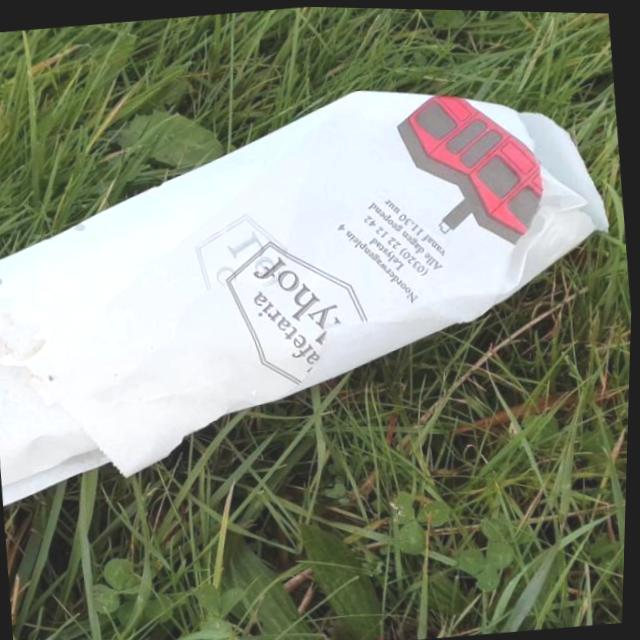Paper: (0, 55, 639, 525)
